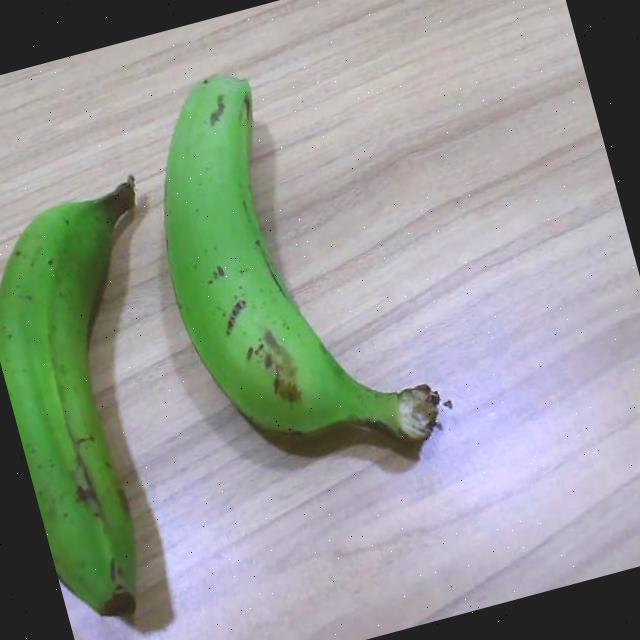Raw: (100, 0, 480, 533), (0, 139, 253, 640)
